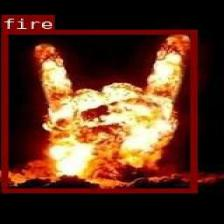fire: (1, 29, 195, 192)
